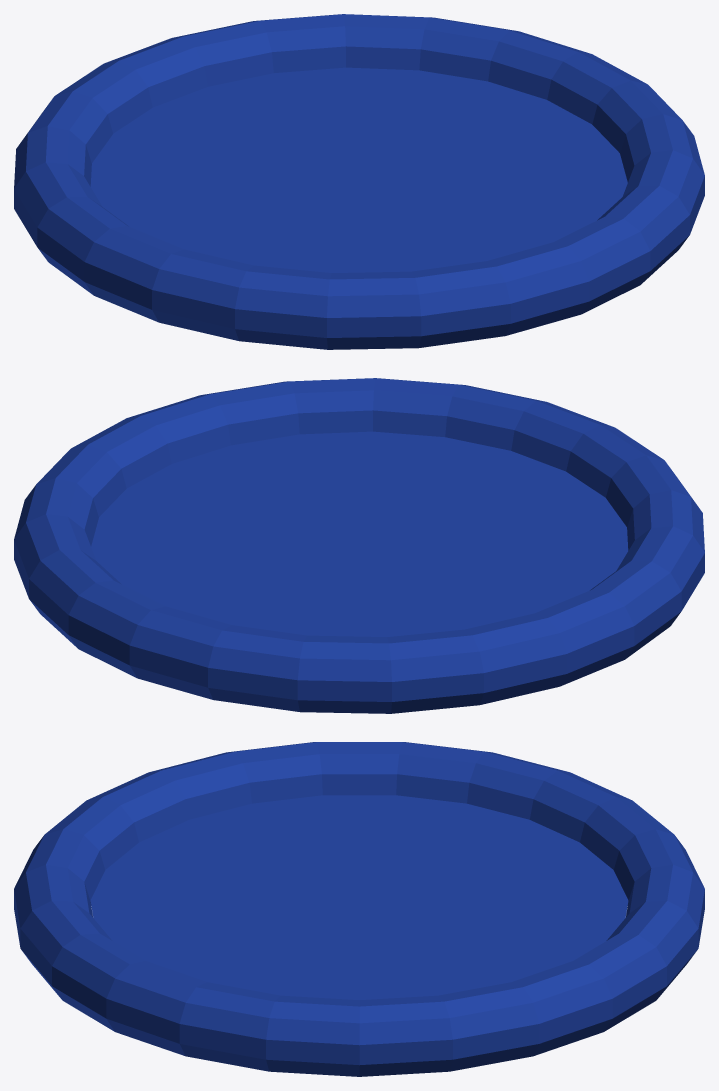
File: Portal.fbx
3 views of the same model, one above another, from view 1: azimuth 30°, elevation 25°; view 2: azimuth 150°, elevation 25°; view 3: azimuth 270°, elevation 25° (orthographic).
Parts seen in each view (by area): view 1: polySurface1, polySurface2; view 2: polySurface1, polySurface2; view 3: polySurface1, polySurface2.
Part boxes in pixels (x1,y1,x2,y2): polySurface1: (14, 14, 704, 349); polySurface2: (90, 67, 627, 272); polySurface1: (14, 378, 704, 713); polySurface2: (91, 431, 628, 636); polySurface1: (14, 742, 704, 1076); polySurface2: (90, 795, 628, 999).
Size of the model in its own units: 10.98 by 1.23 by 11.01.
